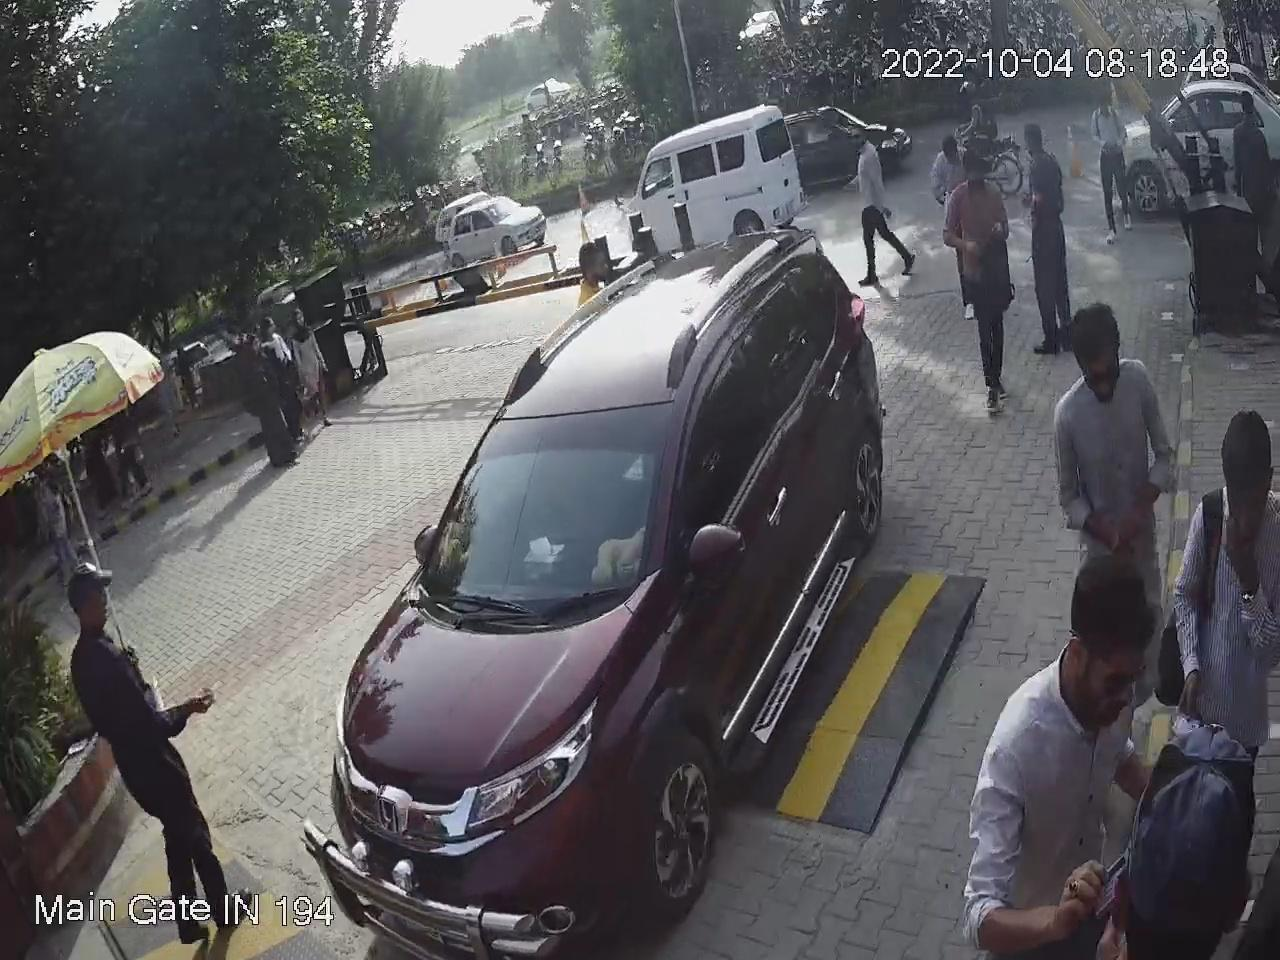windshield: (413, 385, 686, 605)
